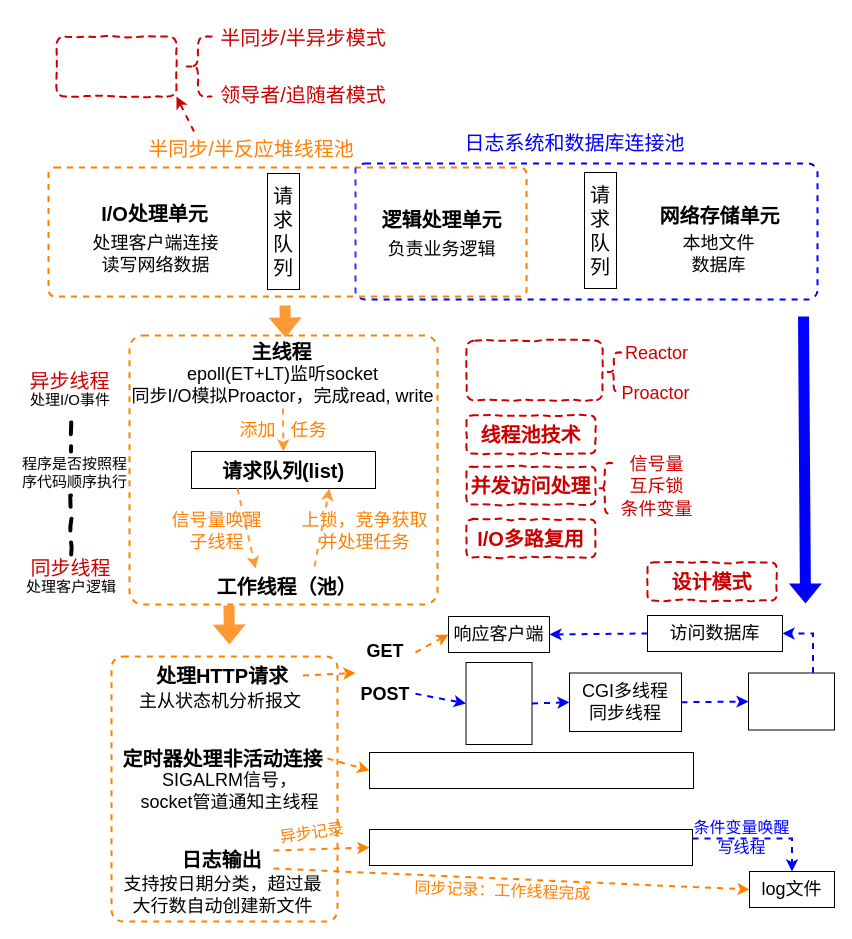
Some shapes in this 852 by 939 pixel diagram are drawn without their labels. The centre of each missing label's shape, as x and y in pixels:
"两种高效的事件处理模式" goes at point 534,370.
"两种高效的并发模式" goes at point 116,66.
"基于升序链表的定时器，超时断开连接" goes at point 531,770.
"数据库 连接池" goes at point 791,701.
"注册 登录 验证" goes at point 498,703.
"请求队列(使用循环数组自定义队列)" goes at point 530,847.
